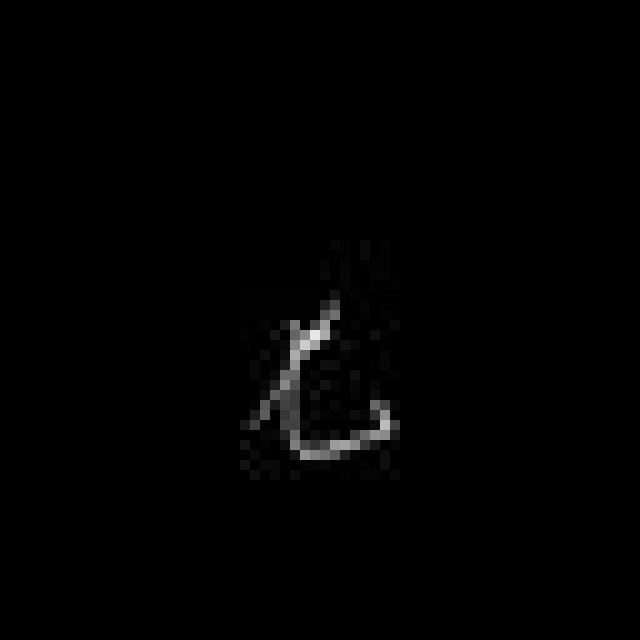7 -seven-: (236, 282, 408, 476)
